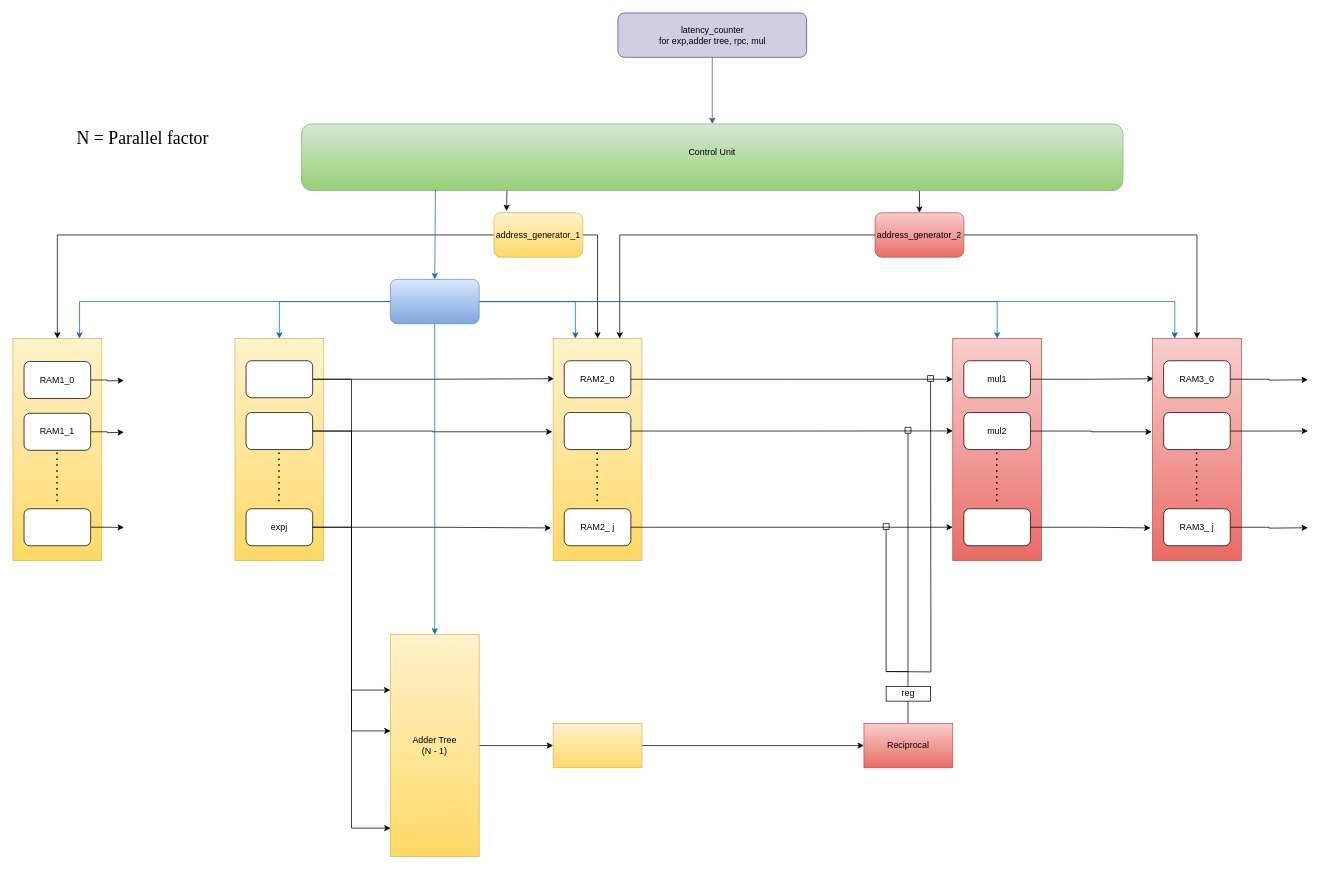
This 1327x870 diagram has some shape labels left out. Each missing label, with the centre of its shape:
"Accumulator" belongs at point (597, 745).
"exp1" belongs at point (279, 379).
"exp2" belongs at point (279, 431).
"module_generator" belongs at point (434, 301).
"mulj" belongs at point (996, 527).
"RAM1_ j" belongs at point (57, 527).
"RAM2_1" belongs at point (597, 431).
"RAM3_1" belongs at point (1196, 431).
